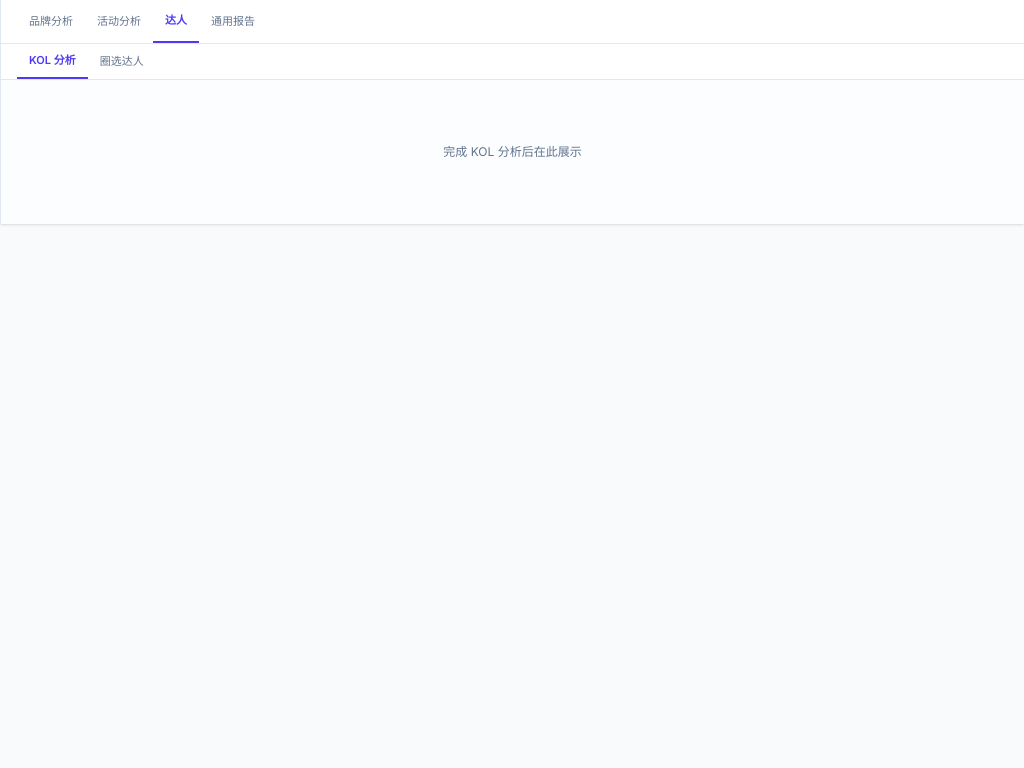
Test: ArtifactWorkspace › Insight Board 作为父产物的子分析列表展示
Click the tab "品牌分析": {"x": 51, "y": 22} [17, 0, 85, 43]
(page scrolled)
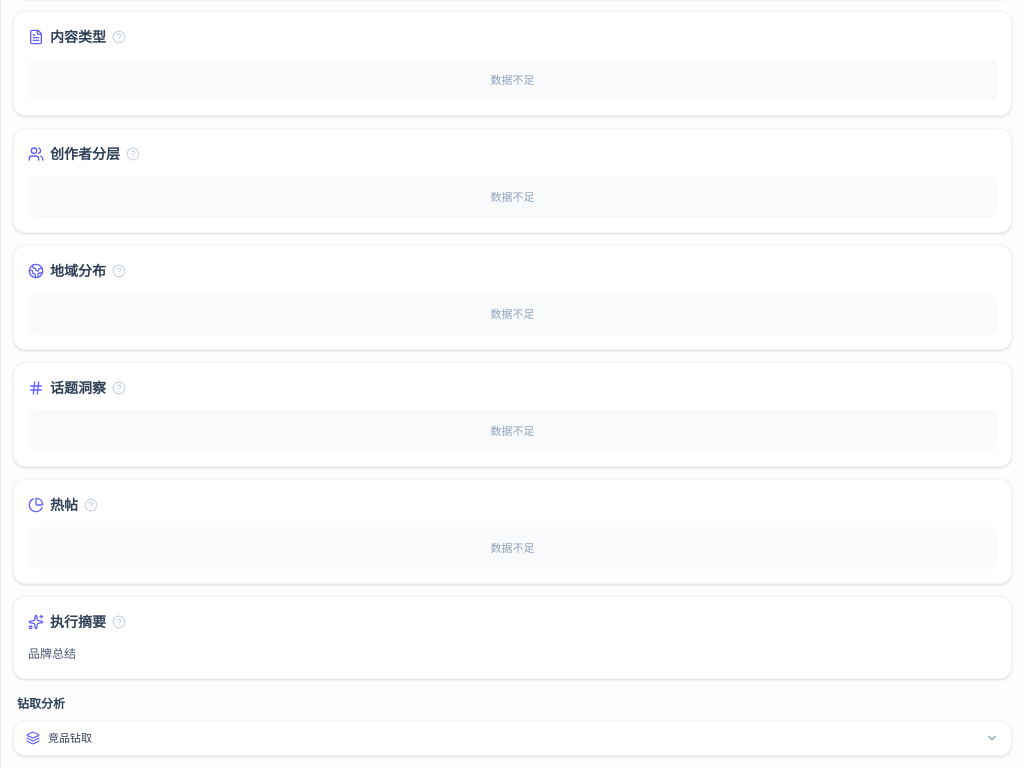
Check: the heading "钻取分析" is shown, box [17, 696, 65, 711]
Check: the text "竞品钻取" is shown, box [48, 731, 92, 745]
